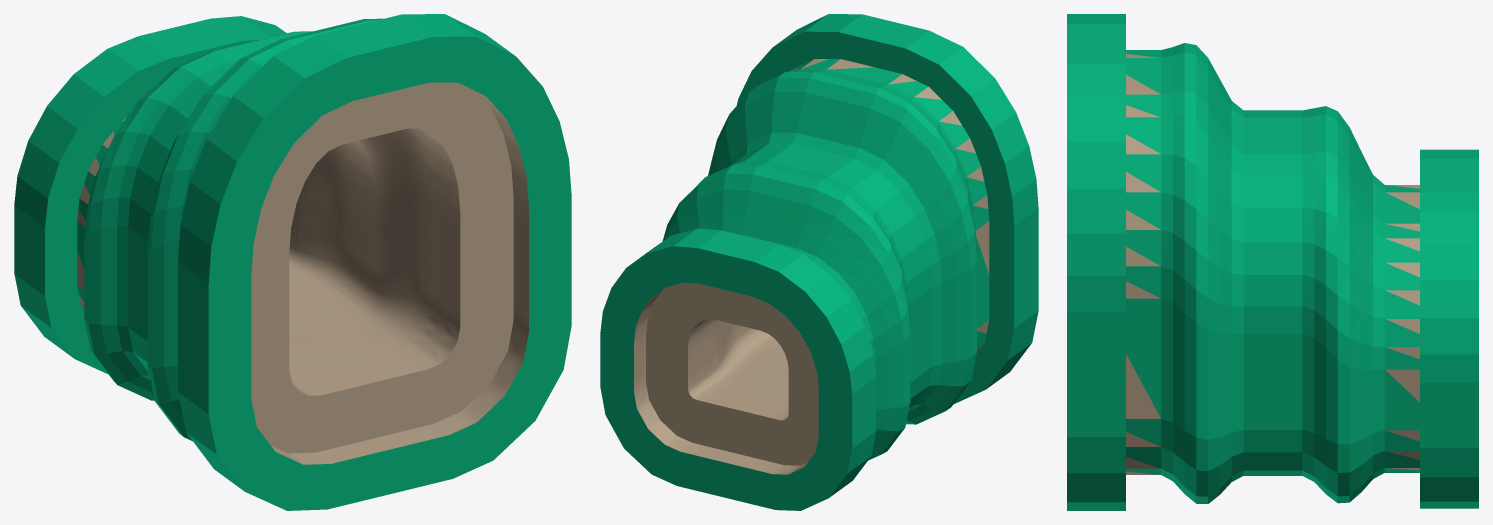
The model's file is TT_Trans_S_P.fbx.
The picture shows the model from 3 angles, left to right: view 1: azimuth 30°, elevation 25°; view 2: azimuth 150°, elevation 25°; view 3: azimuth 270°, elevation 25°; orthographic projection. The views are drawn at different scales.
Visible parts, largest first — view 1: TT_Trans_S_P_LOD0; view 2: TT_Trans_S_P_LOD0; view 3: TT_Trans_S_P_LOD0.
Part boxes in pixels (x1=…): TT_Trans_S_P_LOD0: x1=14, y1=14, x2=571, y2=510; TT_Trans_S_P_LOD0: x1=600, y1=14, x2=1038, y2=510; TT_Trans_S_P_LOD0: x1=1067, y1=14, x2=1478, y2=510.
Size of the model in its own units: 340 by 400 by 350.
